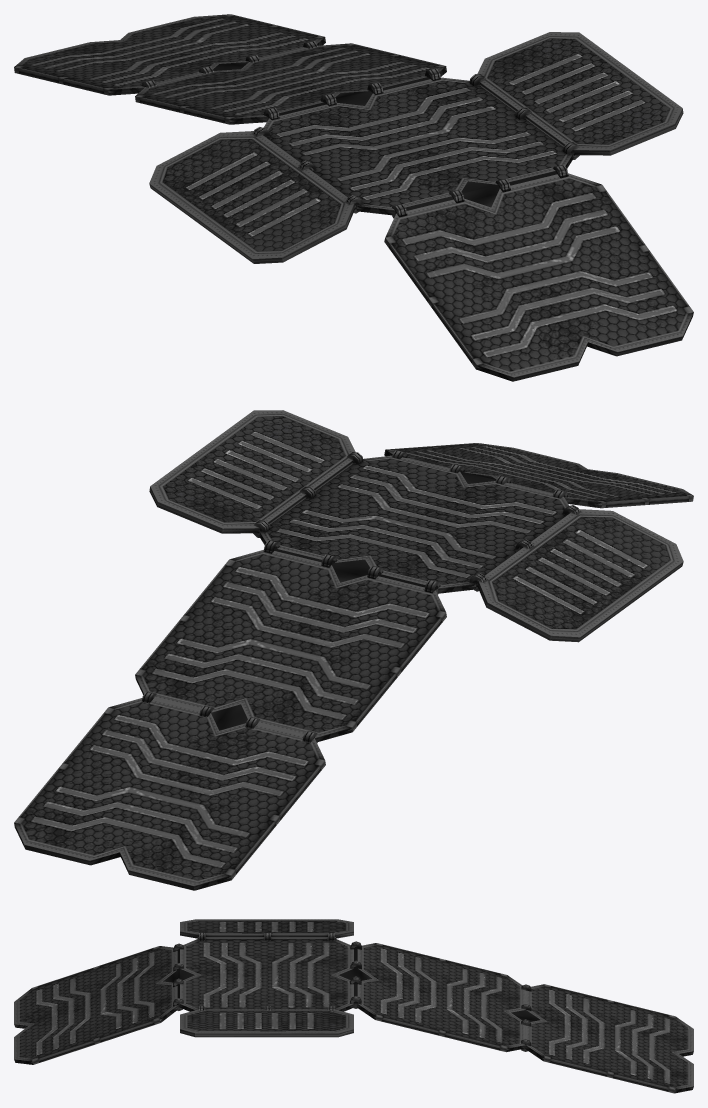
Rendered from platform.dae.
3 views of the same model, one above another, from view 1: azimuth 30°, elevation 25°; view 2: azimuth 150°, elevation 25°; view 3: azimuth 270°, elevation 25° (orthographic). The views are drawn at different scales.
Visible parts, largest first — view 1: platform; view 2: platform; view 3: platform.
Boxes of the visible parts, <box> form: platform: <box>14,14,693,381</box>; platform: <box>14,410,693,890</box>; platform: <box>14,919,693,1093</box>.
Size of the model in its own units: 5.96 by 11.72 by 2.07.
